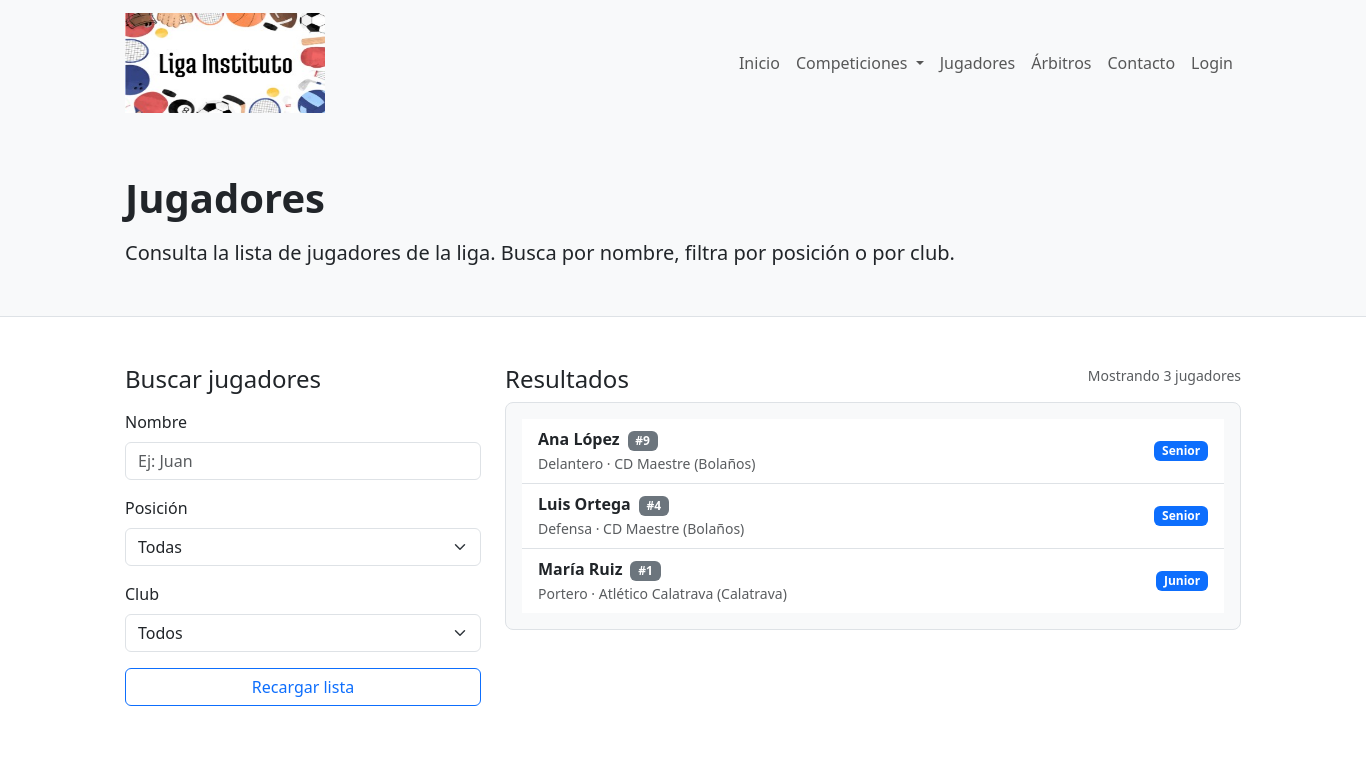
Test: Página de Jugadores › debe filtrar jugadores por nombre
Step 1. Type "Ana" into the search field with id "nombreFilter" → [303, 461], box [125, 442, 481, 480]
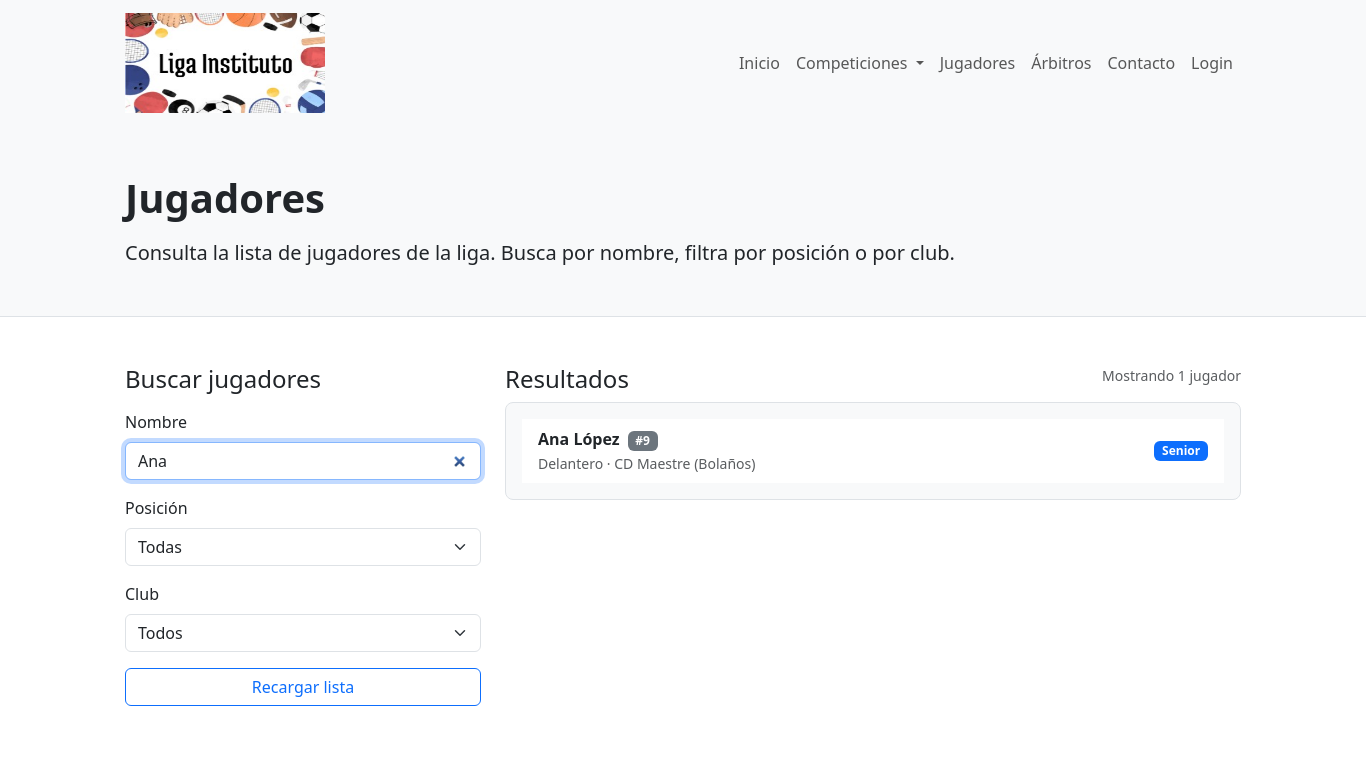
Expected: the list item "Ana López" is shown, [538, 428, 620, 450]
Expected: the number of list items with class "list-group-item" is 1, [522, 419, 1224, 483]
